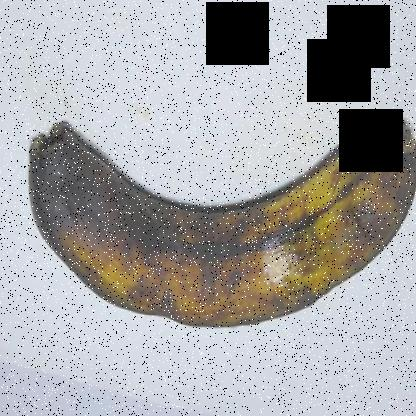overripe: (15, 49, 415, 352)
